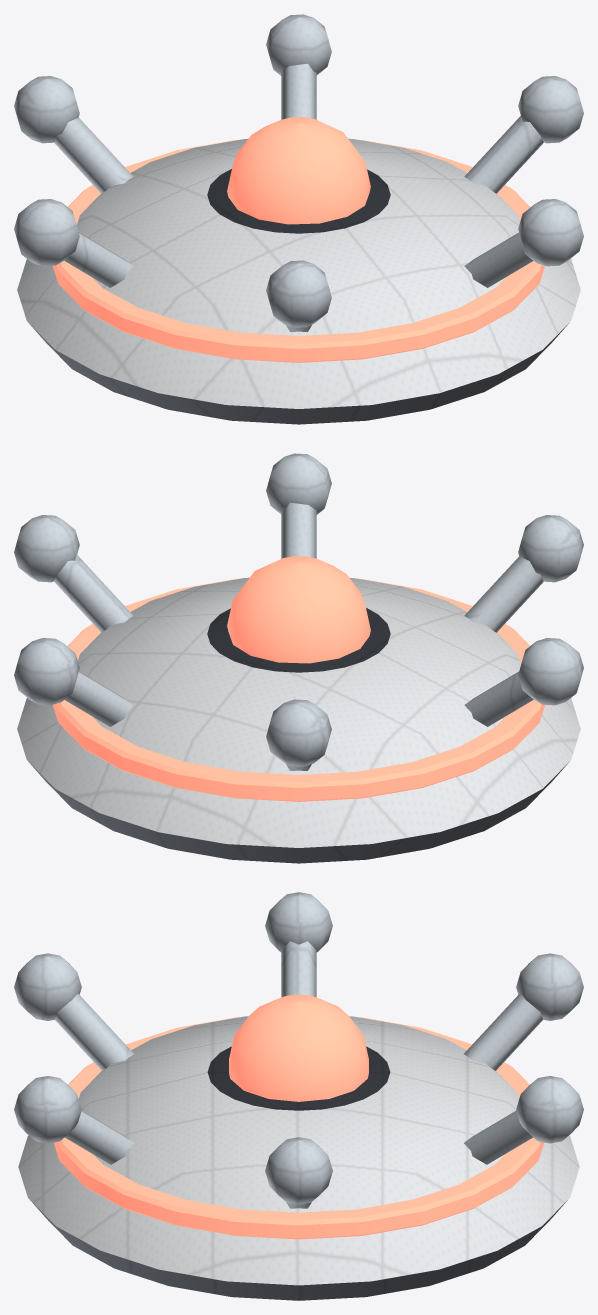
The model's file is R4D_ExplosiveTrap.glb.
3 renders of one model, top to bottom at view 1: azimuth 30°, elevation 25°; view 2: azimuth 150°, elevation 25°; view 3: azimuth 270°, elevation 25°, orthographic.
Parts seen in each view (by area): view 1: R4D_ExplosiveTrap_Body, R4D_ExplosiveTrap_Lamp; view 2: R4D_ExplosiveTrap_Body, R4D_ExplosiveTrap_Lamp; view 3: R4D_ExplosiveTrap_Body, R4D_ExplosiveTrap_Lamp.
Part boxes in pixels (box(x1,y1,x2,y2)): R4D_ExplosiveTrap_Body: box(14, 14, 583, 424); R4D_ExplosiveTrap_Lamp: box(227, 117, 370, 224); R4D_ExplosiveTrap_Body: box(14, 453, 583, 863); R4D_ExplosiveTrap_Lamp: box(227, 556, 370, 663); R4D_ExplosiveTrap_Body: box(14, 892, 583, 1300); R4D_ExplosiveTrap_Lamp: box(229, 994, 368, 1101).
Bounding box in the file's own units: 0.496 × 0.16 × 0.4365.
Materials: 5 (4 with a texture image).
